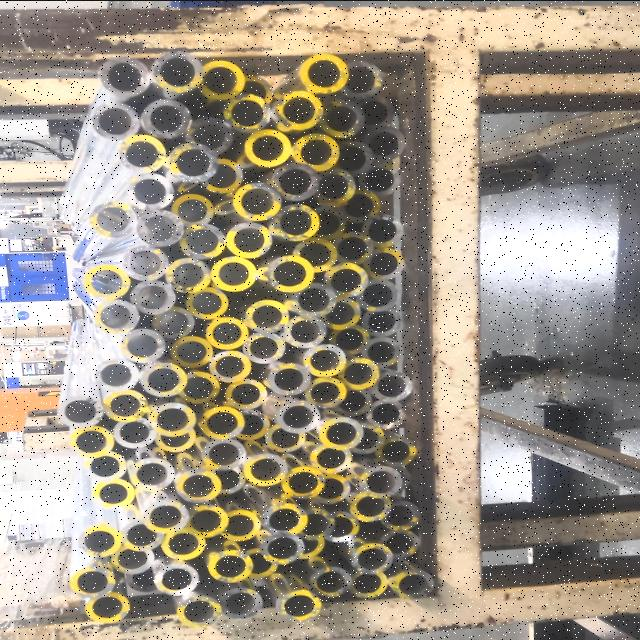pipe: (139, 98, 191, 138), (152, 51, 202, 92), (98, 56, 148, 96), (184, 116, 232, 156), (300, 53, 348, 93), (198, 60, 244, 100), (276, 90, 322, 130), (126, 172, 174, 210), (118, 134, 166, 172), (92, 102, 140, 140), (170, 143, 218, 181), (232, 182, 280, 220), (244, 128, 292, 166), (267, 255, 313, 293), (292, 133, 338, 171), (318, 100, 364, 138), (136, 210, 184, 246), (178, 223, 226, 259), (273, 162, 318, 200), (309, 168, 355, 205), (121, 245, 168, 281), (139, 362, 187, 397), (274, 203, 318, 241), (84, 263, 130, 299), (90, 202, 136, 238), (210, 256, 256, 292), (226, 222, 272, 258), (223, 95, 270, 130), (165, 257, 210, 293), (142, 499, 188, 534), (150, 402, 196, 436), (323, 263, 368, 297), (57, 395, 103, 428), (94, 358, 140, 391), (318, 416, 364, 449), (201, 157, 243, 193), (340, 60, 382, 96), (130, 458, 174, 492), (120, 328, 164, 362), (94, 298, 138, 332), (130, 280, 174, 314), (176, 468, 220, 502), (170, 193, 214, 227), (292, 238, 336, 272), (244, 299, 289, 332), (331, 140, 372, 176), (68, 425, 114, 457), (201, 438, 247, 470), (262, 503, 308, 535), (185, 286, 228, 320), (357, 162, 400, 196), (104, 389, 148, 422), (276, 401, 320, 434), (84, 591, 129, 623), (70, 565, 115, 597), (282, 465, 324, 499), (292, 283, 334, 317), (331, 231, 373, 265), (338, 188, 380, 222), (363, 126, 405, 160), (200, 406, 243, 439), (77, 524, 121, 556), (120, 519, 164, 551), (176, 595, 220, 627), (162, 528, 206, 560), (150, 306, 194, 338), (208, 550, 252, 582), (176, 372, 220, 404), (204, 317, 248, 349), (277, 589, 321, 621), (260, 532, 304, 564), (186, 504, 228, 537), (244, 453, 286, 486), (268, 362, 310, 395), (284, 315, 326, 348), (309, 566, 352, 598), (304, 376, 347, 408), (318, 297, 361, 329), (154, 564, 198, 595), (308, 442, 352, 473), (220, 508, 260, 542), (113, 416, 155, 448), (170, 336, 212, 368), (208, 350, 250, 382), (242, 332, 284, 364), (304, 344, 346, 376), (360, 466, 402, 498), (374, 435, 416, 467), (337, 357, 379, 389), (363, 248, 405, 280), (225, 378, 268, 409), (110, 543, 154, 573), (350, 489, 390, 522), (361, 214, 401, 247), (354, 96, 394, 129), (356, 280, 397, 312), (308, 206, 346, 240), (92, 478, 134, 508), (84, 450, 126, 480), (264, 422, 306, 452), (328, 324, 370, 354), (353, 542, 392, 574), (372, 371, 412, 402), (221, 588, 262, 618), (298, 507, 334, 541), (312, 472, 350, 504), (380, 528, 420, 558), (380, 500, 420, 530), (233, 408, 270, 440), (348, 568, 387, 598), (365, 398, 404, 428), (323, 510, 359, 542), (361, 336, 399, 366), (362, 306, 400, 336), (393, 570, 433, 598), (348, 422, 383, 454), (242, 547, 278, 578), (234, 75, 272, 104), (156, 425, 196, 452), (209, 464, 245, 494), (334, 388, 372, 416), (126, 564, 160, 592), (292, 534, 324, 558)
